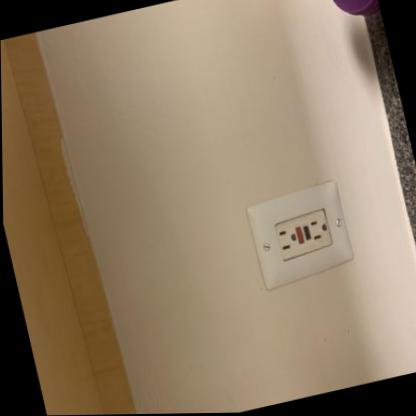OUTLET: (243, 179, 355, 289)
